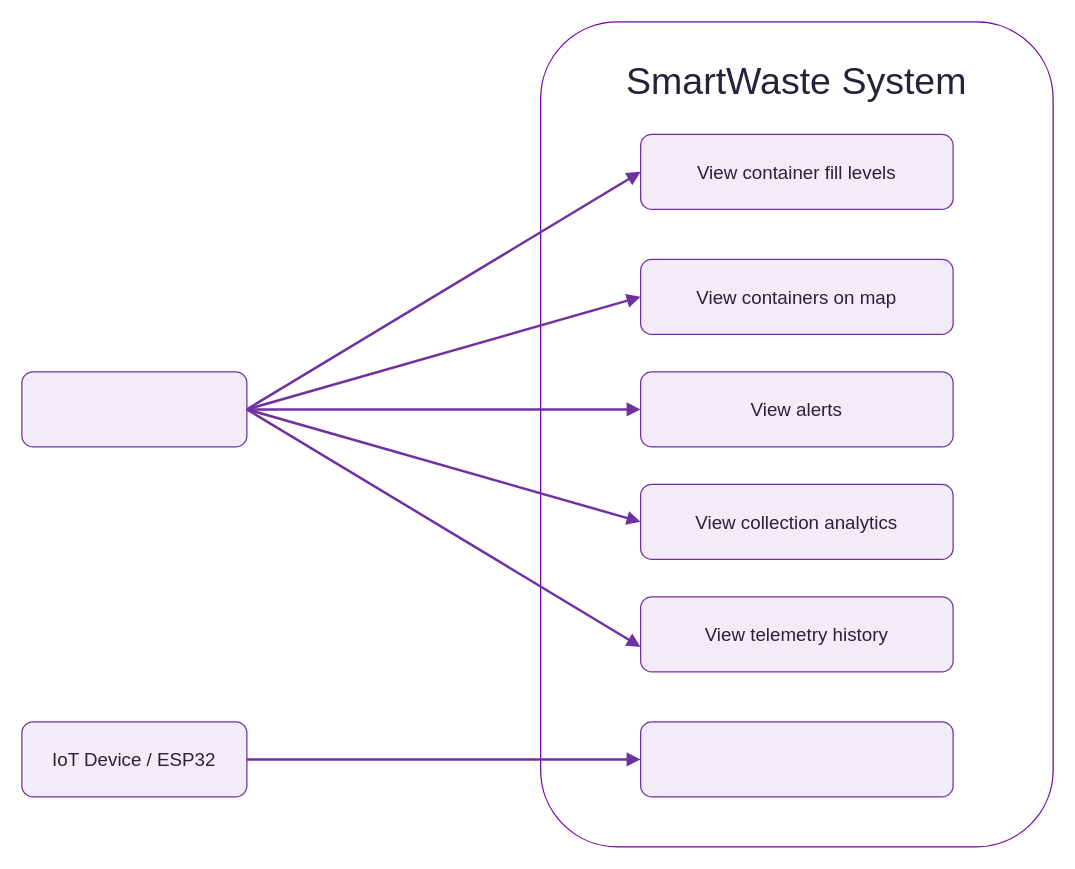
This 1075x869 diagram has some shape labels left out. Here are the shapes that lost their labels. From the top down, the centre of each, then its label:
At (134,409): "Municipal Operator".
At (796,759): "Send fill-level telemetry".
